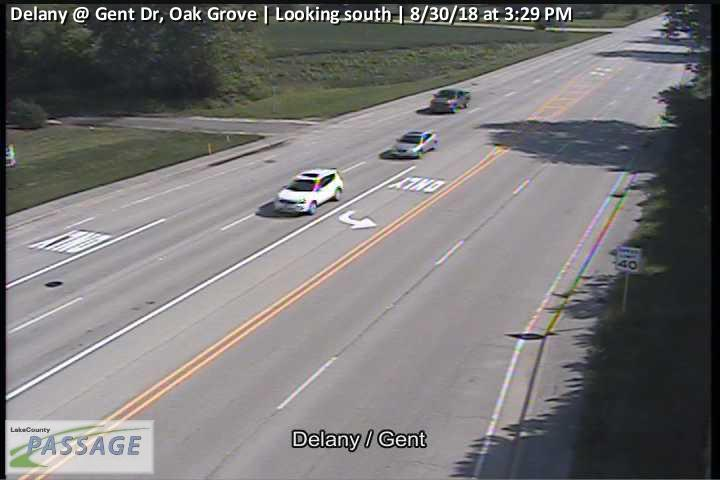SUV: (274, 167, 344, 215)
Sedan: (392, 130, 439, 159)
Truck: (430, 90, 471, 114)
